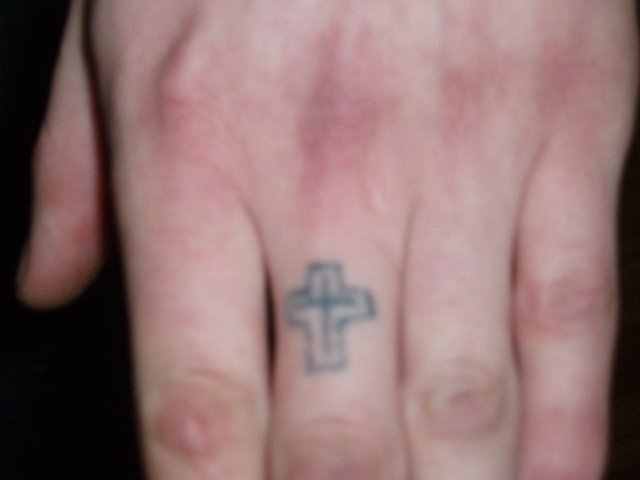tatu9_krest: (284, 253, 375, 385)
